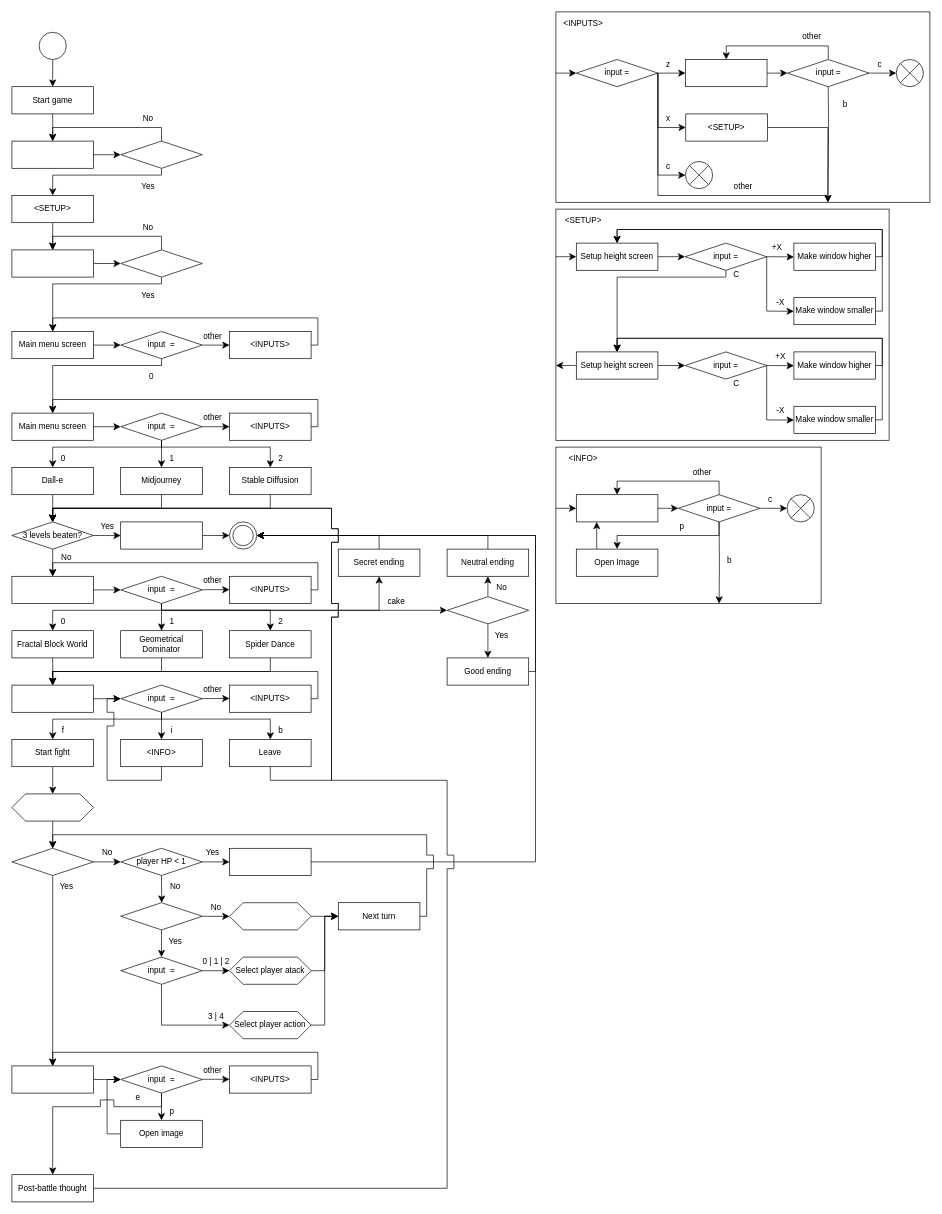
Some shapes in this 942 by 1214 pixel diagram are drawn without their labels. The centre of each missing label's shape, as x and y in pixels:
"0 levels beaten?" belongs at [487,610].
"Ask for full screen and press enter" belongs at [52,154].
"Ask for password" belongs at [52,263].
"Bad ending" belongs at [270,862].
"Battle lore" belongs at [52,698].
"correct?" belongs at [161,263].
"enemy HP <1" belongs at [52,862].
"Info screen" belongs at [617,508].
"Introduction lore" belongs at [52,590].
"Option screen" belongs at [726,73].
"player turn?" belongs at [161,916].
"Post-battle lore" belongs at [52,1079].
"pressed?" belongs at [161,154].
"Random enemy attack" belongs at [270,916].
"Random turn" belongs at [52,807].
"True ending" belongs at [161,535].
